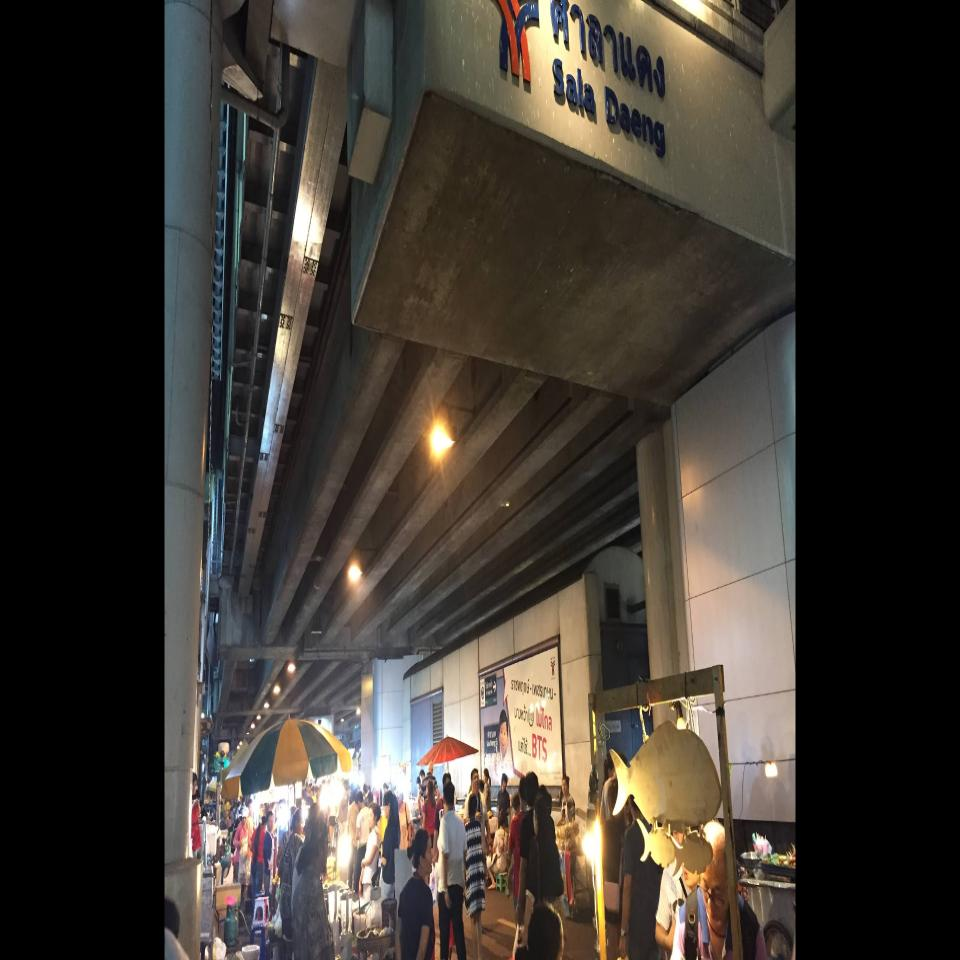Sala Daeng: (492, 0, 669, 162), (550, 0, 668, 162)
